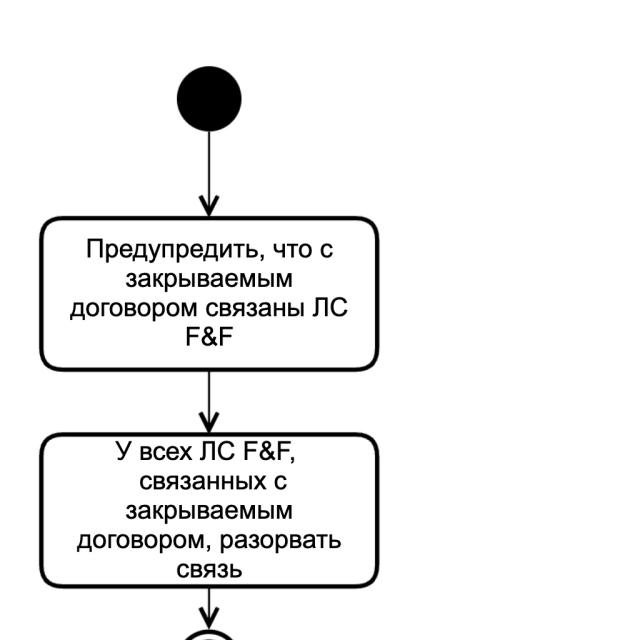arrow: (199, 132, 218, 216), (199, 372, 219, 432), (199, 589, 219, 629)
circle: (177, 67, 241, 131)
rectangle: (40, 433, 378, 588), (40, 217, 378, 371)
